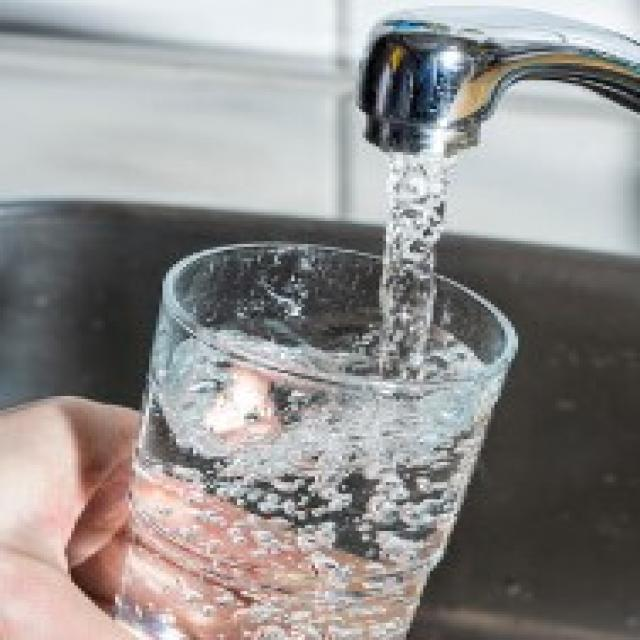electronic: (100, 242, 516, 640)
